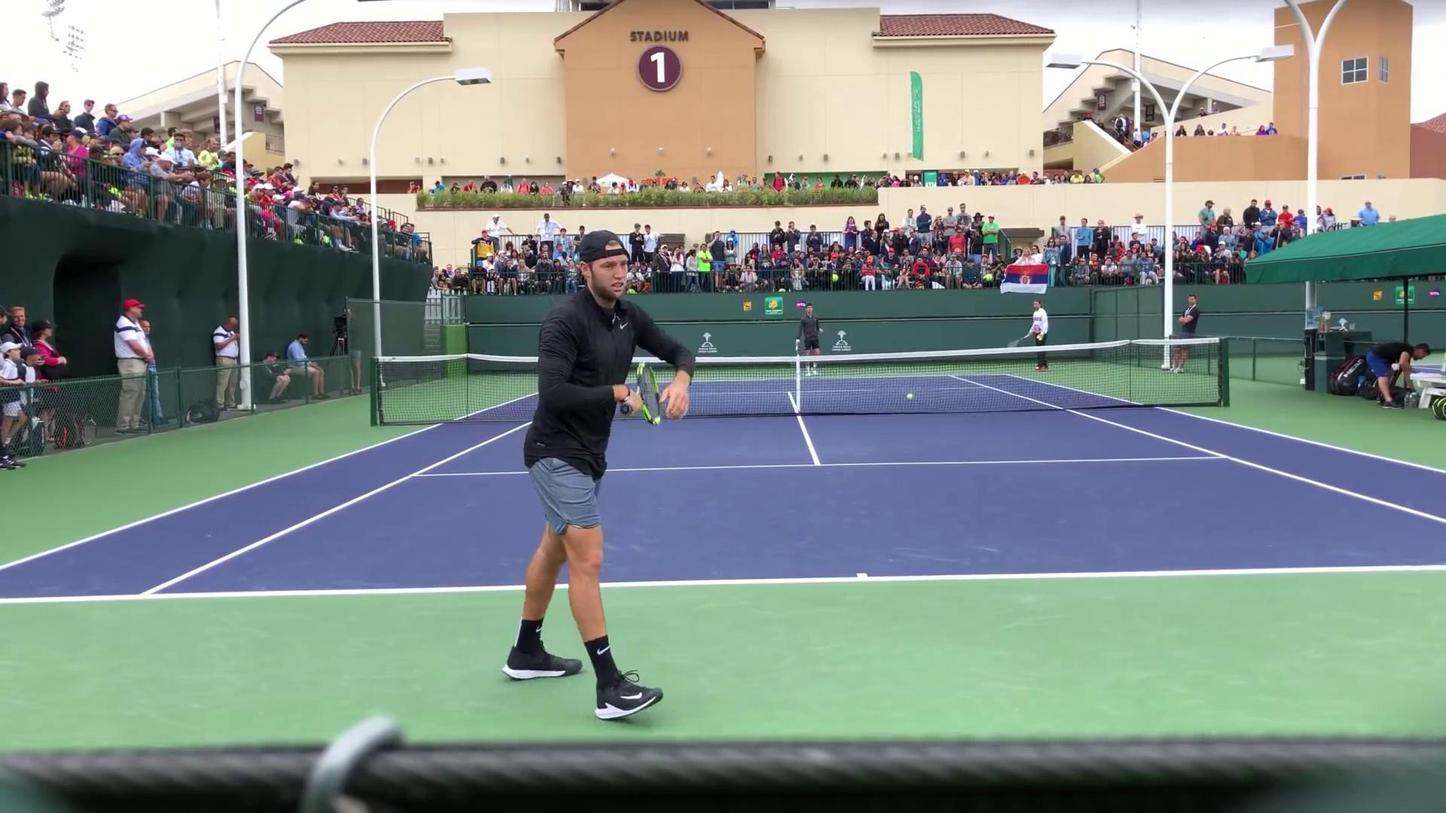ball: (907, 393, 914, 401)
